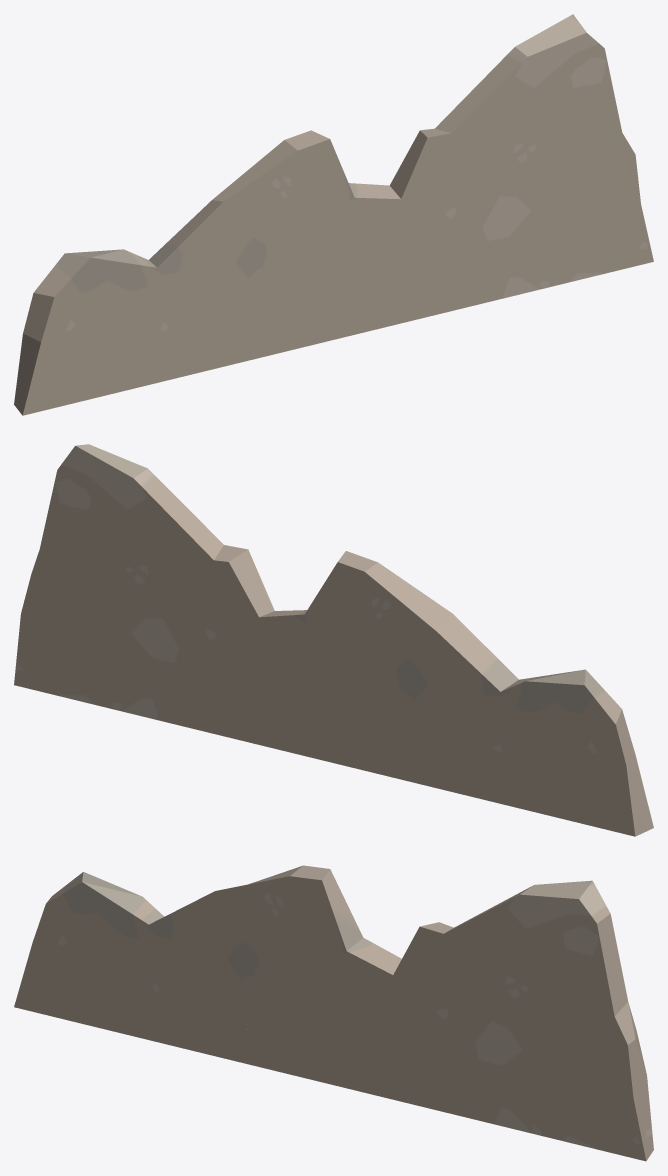
The model's file is SM_Bld_Ruins_05.glb.
3 views of the same model, one above another, from view 1: azimuth 30°, elevation 25°; view 2: azimuth 150°, elevation 25°; view 3: azimuth 330°, elevation 25° (orthographic).
Visible parts, largest first — view 1: SM_Bld_Ruins_05; view 2: SM_Bld_Ruins_05; view 3: SM_Bld_Ruins_05.
Part boxes in pixels (x1=…): SM_Bld_Ruins_05: x1=14, y1=14, x2=653, y2=415; SM_Bld_Ruins_05: x1=14, y1=444, x2=653, y2=836; SM_Bld_Ruins_05: x1=14, y1=865, x2=653, y2=1161.
Bounding box in the file's own units: 6.69 × 2.57 × 0.25.
Materials: 1 (1 with a texture image).
